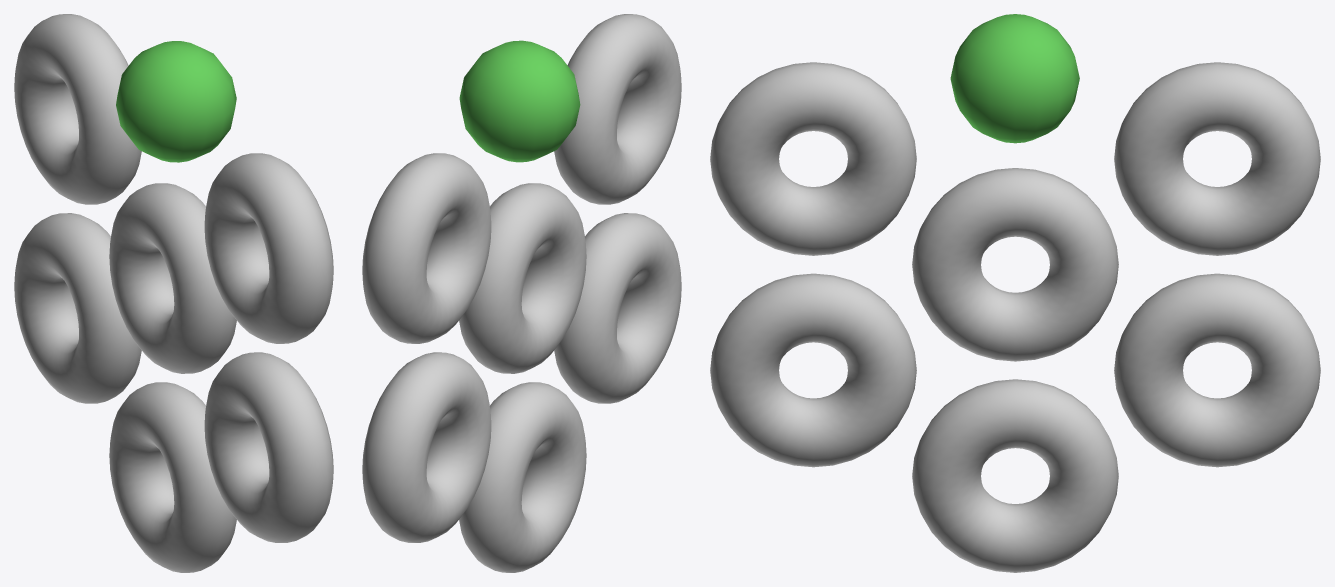
The model's file is Head7.fbx.
The picture shows the model from 3 angles, left to right: view 1: azimuth 30°, elevation 25°; view 2: azimuth 150°, elevation 25°; view 3: azimuth 270°, elevation 25°; orthographic projection. The views are drawn at different scales.
Parts seen in each view (by area): view 1: Head7Torus2, Head7Torus1, Head7Torus5, Head7Torus6, Head7Torus3, Head7Torus4, Head7Sphere; view 2: Head7Torus6, Head7Torus5, Head7Torus1, Head7Torus2, Head7Torus3, Head7Torus4, Head7Sphere; view 3: Head7Torus6, Head7Torus2, Head7Torus3, Head7Torus1, Head7Torus5, Head7Torus4, Head7Sphere.
Part boxes in pixels (bbox=[...]): Head7Torus2: bbox=[204, 352, 333, 542]; Head7Torus1: bbox=[204, 153, 333, 343]; Head7Torus5: bbox=[14, 14, 141, 204]; Head7Torus6: bbox=[14, 213, 141, 403]; Head7Torus3: bbox=[109, 183, 236, 373]; Head7Torus4: bbox=[109, 382, 236, 572]; Head7Sphere: bbox=[116, 41, 236, 162]; Head7Torus6: bbox=[362, 352, 491, 542]; Head7Torus5: bbox=[362, 153, 491, 343]; Head7Torus1: bbox=[554, 14, 681, 204]; Head7Torus2: bbox=[554, 213, 681, 403]; Head7Torus3: bbox=[459, 183, 586, 373]; Head7Torus4: bbox=[459, 382, 586, 572]; Head7Sphere: bbox=[459, 40, 580, 162]; Head7Torus6: bbox=[1114, 273, 1320, 467]; Head7Torus2: bbox=[710, 273, 916, 467]; Head7Torus3: bbox=[912, 168, 1118, 361]; Head7Torus1: bbox=[710, 62, 916, 255]; Head7Torus5: bbox=[1114, 62, 1320, 255]; Head7Torus4: bbox=[912, 379, 1118, 572]; Head7Sphere: bbox=[950, 14, 1079, 143].
Bounding box in the file's own units: 25.43 × 119 × 120.
